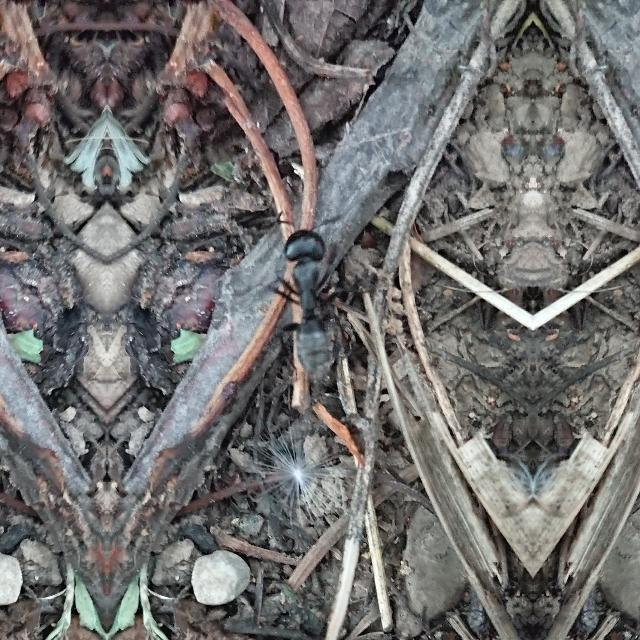Camponotus: (238, 187, 362, 395)
